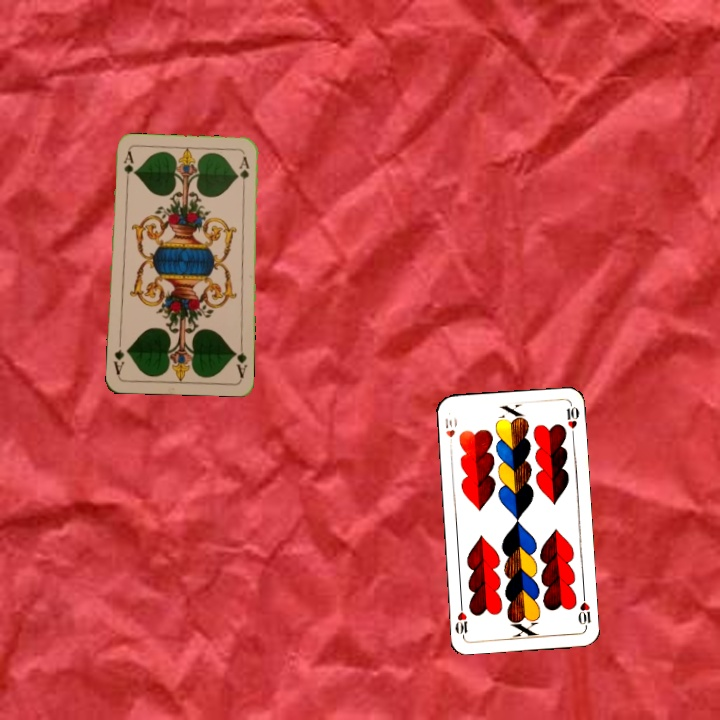GA: (230, 340, 250, 380), (119, 148, 134, 188)
H10: (574, 590, 593, 630), (441, 412, 460, 450)
